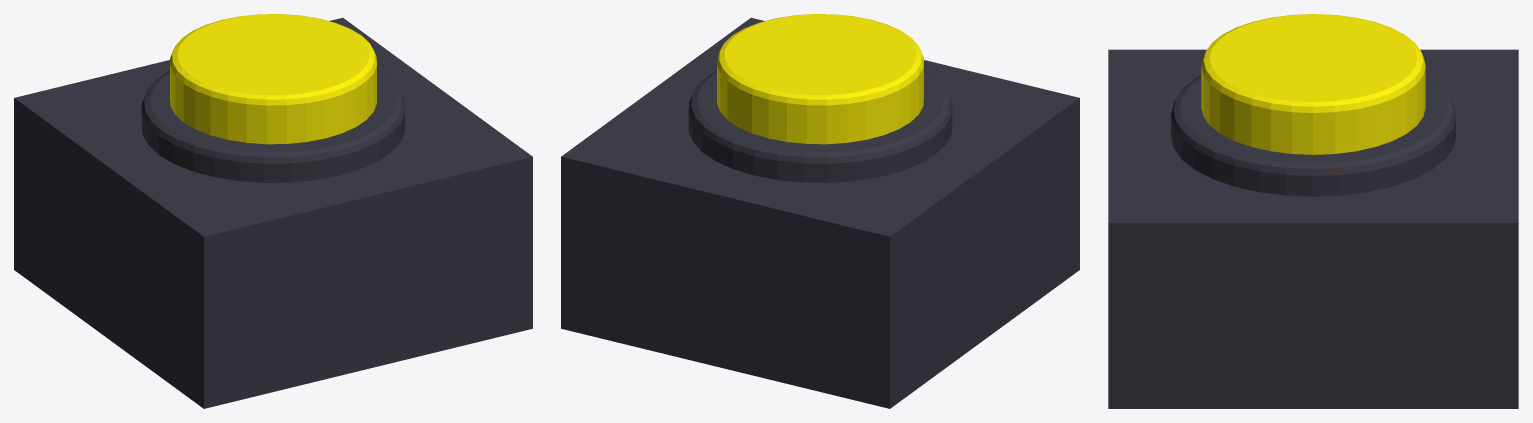
File: StartButton.glb
3 renders of one model, left to right at view 1: azimuth 30°, elevation 25°; view 2: azimuth 150°, elevation 25°; view 3: azimuth 270°, elevation 25°, orthographic. The views are drawn at different scales.
Parts seen in each view (by area): view 1: Cylinder; view 2: Cylinder; view 3: Cylinder.
Part boxes in pixels (bbox=[...]): Cylinder: bbox=[14, 14, 532, 408]; Cylinder: bbox=[561, 14, 1079, 408]; Cylinder: bbox=[1108, 14, 1518, 408].
Size of the model in its own units: 2 by 1.42 by 2.
Materials: 2 (2 with a texture image).
